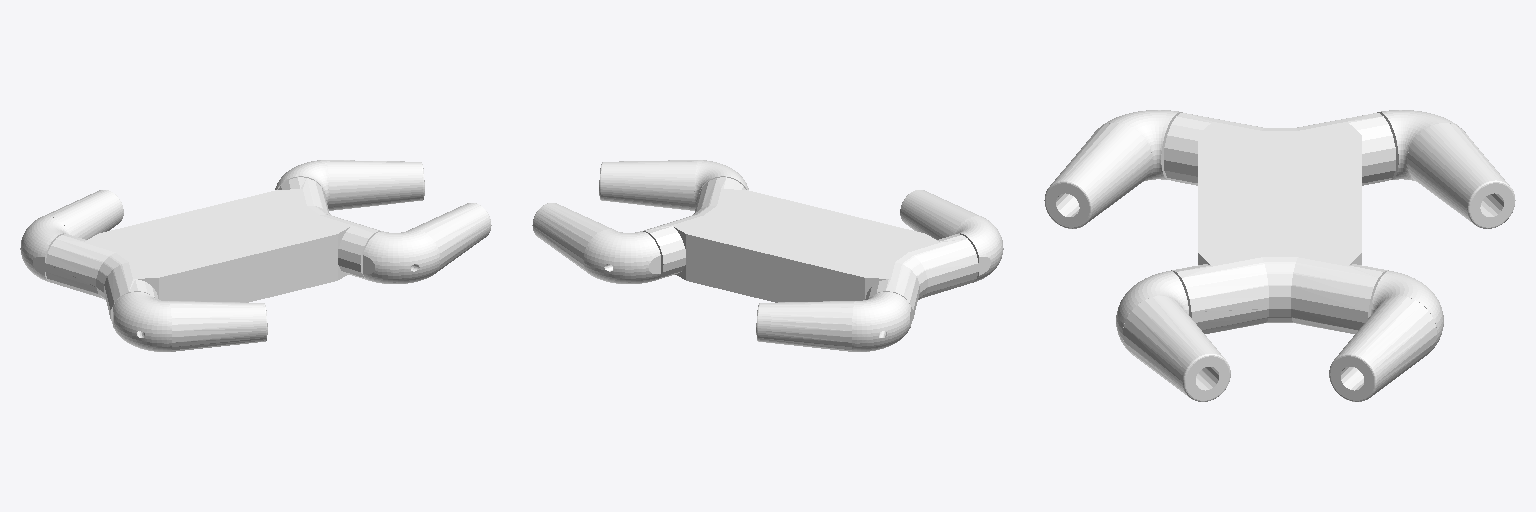
robot.urdf — 24_degree:
<?xml version="1.0" encoding="utf-8"?>
<!-- This URDF was automatically created by SolidWorks to URDF Exporter! Originally created by [author] ([email redacted]) 
     Commit Version: 1.5.1-0-g916b5db  Build Version: 1.5.7152.31018
     For more information, please see http://wiki.ros.org/sw_urdf_exporter -->
<robot
  name="24_degree">
  <link
    name="base_link">
    <inertial>
      <origin
        xyz="-5.5511E-17 4.8672E-08 4.2236E-08"
        rpy="0 0 0" />
      <mass
        value="2.942" />
      <inertia
        ixx="0.0095702"
        ixy="4.3297E-07"
        ixz="-1.5371E-10"
        iyy="0.0471047"
        iyz="-3.35E-20"
        izz="0.0542515" />
    </inertial>
    <visual>
      <origin
        xyz="0 0 0"
        rpy="0 0 0" />
      <geometry>
        <mesh
          filename="package://24_degree/meshes/base_link.STL" />
      </geometry>
      <material
        name="">
        <color
          rgba="1 1 1 1" />
      </material>
    </visual>
    <collision>
      <origin
        xyz="0 0 0"
        rpy="0 0 0" />
      <geometry>
        <mesh
          filename="package://24_degree/meshes/base_link.STL" />
      </geometry>
    </collision>
  </link>
  <link
    name="left_front_link">
    <inertial>
      <origin
        xyz="-9.345E-08 0.056833 -0.03601"
        rpy="0 0 0" />
      <mass
        value="0.092" />
      <inertia
        ixx="0.0002604"
        ixy="5.6602E-10"
        ixz="3.0238E-10"
        iyy="0.0000526"
        iyz="2.27E-05"
        izz="0.0002575" />
    </inertial>
    <visual>
      <origin
        xyz="0 0 0"
        rpy="0 0 0" />
      <geometry>
        <mesh
          filename="package://24_degree/meshes/left_front_link.STL" />
      </geometry>
      <material
        name="">
        <color
          rgba="1 1 1 1" />
      </material>
    </visual>
    <collision>
      <origin
        xyz="0 0 0"
        rpy="0 0 0" />
      <geometry>
        <mesh
          filename="package://24_degree/meshes/left_front_link.STL" />
      </geometry>
    </collision>
  </link>
  <joint
    name="left_front_leg"
    type="continuous">
    <origin
      xyz="0.17189 0.094095 0"
      rpy="1.9897 1.5708 0" />
    <parent
      link="base_link" />
    <child
      link="left_front_link" />
    <axis
      xyz="0 0 -1" />
    <limit
      effort="5"
      velocity="487" />
  </joint>
  <link
    name="right_front_link">
    <inertial>
      <origin
        xyz="9.345E-08 0.056833 0.03601"
        rpy="0 0 0" />
      <mass
        value="0.092" />
      <inertia
        ixx="0.0002604"
        ixy="-5.6602E-10"
        ixz="3.0238E-10"
        iyy="0.0000526"
        iyz="-2.27E-05"
        izz="0.0002575" />
    </inertial>
    <visual>
      <origin
        xyz="0 0 0"
        rpy="0 0 0" />
      <geometry>
        <mesh
          filename="package://24_degree/meshes/right_front_link.STL" />
      </geometry>
      <material
        name="">
        <color
          rgba="1 1 1 1" />
      </material>
    </visual>
    <collision>
      <origin
        xyz="0 0 0"
        rpy="0 0 0" />
      <geometry>
        <mesh
          filename="package://24_degree/meshes/right_front_link.STL" />
      </geometry>
    </collision>
  </link>
  <joint
    name="right_front_leg"
    type="continuous">
    <origin
      xyz="0.17189 -0.094095 0"
      rpy="1.1519 1.5708 0" />
    <parent
      link="base_link" />
    <child
      link="right_front_link" />
    <axis
      xyz="0 0 1" />
    <limit
      effort="5"
      velocity="487" />
  </joint>
  <link
    name="right_back_link">
    <inertial>
      <origin
        xyz="8.4125E-08 0.056834 0.03601"
        rpy="0 0 0" />
      <mass
        value="0.092" />
      <inertia
        ixx="0.0002604"
        ixy="-5.2061E-10"
        ixz="1.9382E-10"
        iyy="0.0000526"
        iyz="-2.27E-05"
        izz="0.0002575" />
    </inertial>
    <visual>
      <origin
        xyz="0 0 0"
        rpy="0 0 0" />
      <geometry>
        <mesh
          filename="package://24_degree/meshes/right_back_link.STL" />
      </geometry>
      <material
        name="">
        <color
          rgba="1 1 1 1" />
      </material>
    </visual>
    <collision>
      <origin
        xyz="0 0 0"
        rpy="0 0 0" />
      <geometry>
        <mesh
          filename="package://24_degree/meshes/right_back_link.STL" />
      </geometry>
    </collision>
  </link>
  <joint
    name="right_back_leg"
    type="continuous">
    <origin
      xyz="-0.17189 -0.094095 0"
      rpy="1.9897 1.5708 0" />
    <parent
      link="base_link" />
    <child
      link="right_back_link" />
    <axis
      xyz="0 0 1" />
    <limit
      effort="5"
      velocity="487" />
  </joint>
  <link
    name="left_back_link">
    <inertial>
      <origin
        xyz="-8.4125E-08 0.056834 -0.03601"
        rpy="0 0 0" />
      <mass
        value="0.092" />
      <inertia
        ixx="0.0002604"
        ixy="5.2061E-10"
        ixz="1.9382E-10"
        iyy="0.0000526"
        iyz="2.27E-05"
        izz="0.0002575" />
    </inertial>
    <visual>
      <origin
        xyz="0 0 0"
        rpy="0 0 0" />
      <geometry>
        <mesh
          filename="package://24_degree/meshes/left_back_link.STL" />
      </geometry>
      <material
        name="">
        <color
          rgba="1 1 1 1" />
      </material>
    </visual>
    <collision>
      <origin
        xyz="0 0 0"
        rpy="0 0 0" />
      <geometry>
        <mesh
          filename="package://24_degree/meshes/left_back_link.STL" />
      </geometry>
    </collision>
  </link>
  <joint
    name="left_back_leg"
    type="continuous">
    <origin
      xyz="-0.17189 0.094095 0"
      rpy="1.1519 1.5708 0" />
    <parent
      link="base_link" />
    <child
      link="left_back_link" />
    <axis
      xyz="0 0 -1" />
    <limit
      effort="5"
      velocity="487" />
  </joint>
</robot>

--- What the picture shows (computed from the rendered views, not written in the file) ---
Views: 3 orthographic renders of the robot side by side, from view 1: azimuth 30°, elevation 25°; view 2: azimuth 150°, elevation 25°; view 3: azimuth 270°, elevation 25°.
Robot: 24_degree — 5 links, 4 joints (4 continuous); root link base_link; default pose: all joints at 0.
Links seen in each view (by area): view 1: base_link, right_back_link, right_front_link, left_front_link, left_back_link; view 2: base_link, left_back_link, left_front_link, right_front_link, right_back_link; view 3: base_link, left_back_link, right_back_link, left_front_link, right_front_link.
Boxes of the visible links, bbox=[...] form: base_link: bbox=[45, 177, 380, 323]; right_back_link: bbox=[113, 292, 267, 351]; right_front_link: bbox=[363, 203, 491, 283]; left_front_link: bbox=[275, 160, 424, 210]; left_back_link: bbox=[20, 190, 123, 282]; base_link: bbox=[643, 177, 978, 323]; left_back_link: bbox=[756, 292, 910, 351]; left_front_link: bbox=[532, 203, 660, 283]; right_front_link: bbox=[599, 160, 748, 210]; right_back_link: bbox=[900, 190, 1003, 282]; base_link: bbox=[1164, 113, 1395, 333]; left_back_link: bbox=[1377, 110, 1515, 228]; right_back_link: bbox=[1044, 110, 1182, 228]; left_front_link: bbox=[1329, 271, 1443, 401]; right_front_link: bbox=[1116, 271, 1230, 401].
Size in the robot's own frame: 0.5498 by 0.4329 by 0.064 metres.
Meshes: 5 distinct files referenced, 5 mesh visuals loaded (5 binary STL).